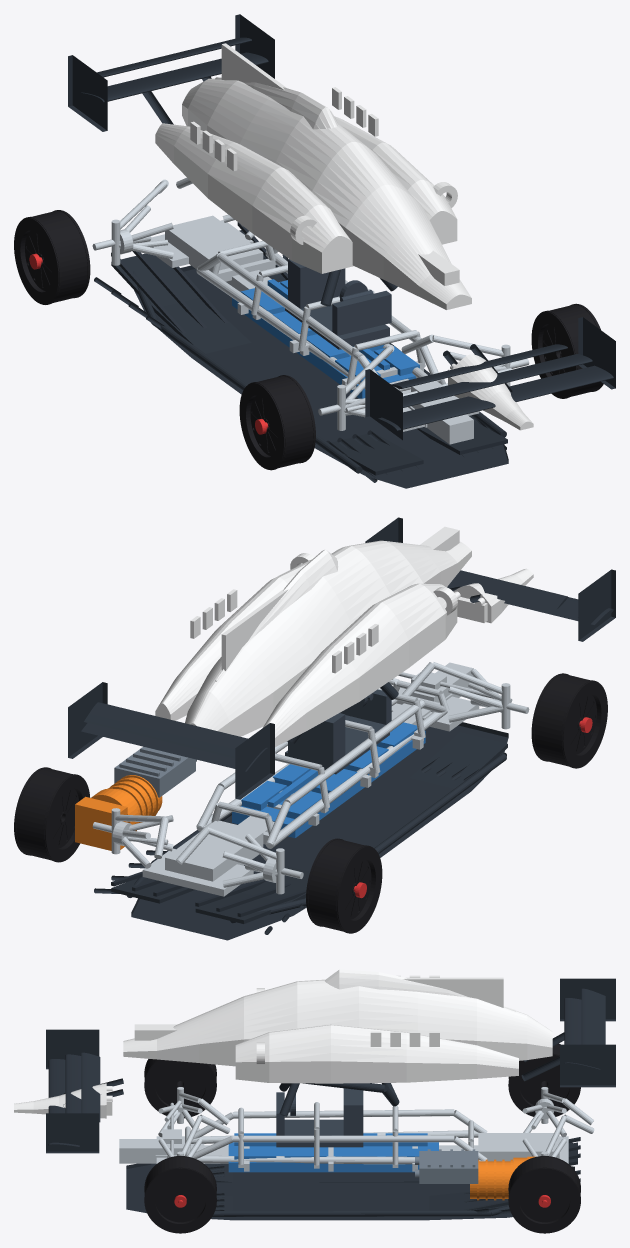
The model's file is W11_V6_PRINTABLE_EXPLODED.glb.
The picture shows the model from 3 angles, top to bottom: view 1: azimuth 30°, elevation 25°; view 2: azimuth 150°, elevation 25°; view 3: azimuth 270°, elevation 25°; orthographic projection. The views are drawn at different scales.
Parts seen in each view (by area): view 1: Reinforced upper body, Twin Venturi floor and diffuser, Rolling wheel (×3), Structural EV chassis, Static multi-element front wing, Static rear wing, Cockpit insert, Low energy store, Rear static suspension, Front static suspension and steering rack, Removable nose and crash box; view 2: Reinforced upper body, Twin Venturi floor and diffuser, Rolling wheel (×3), Structural EV chassis, Static rear wing, Rear static suspension, Static multi-element front wing, Low energy store, Cockpit insert, Front static suspension and steering rack, Rear motor and gearbox, Inverter and controller (+1 smaller); view 3: Reinforced upper body, Rolling wheel (×4), Twin Venturi floor and diffuser, Structural EV chassis, Static multi-element front wing, Static rear wing, Low energy store, Cockpit insert, Front static suspension and steering rack, Rear static suspension, Inverter and controller, Rear motor and gearbox (+2 smaller).
Boxes of the visible parts, x1=… form: Reinforced upper body: x1=155, y1=43, x2=471, y2=309; Twin Venturi floor and diffuser: x1=94, y1=222, x2=508, y2=488; Rolling wheel (×3): x1=14, y1=210, x2=603, y2=470; Structural EV chassis: x1=165, y1=215, x2=473, y2=444; Static multi-element front wing: x1=365, y1=317, x2=615, y2=441; Static rear wing: x1=68, y1=14, x2=274, y2=131; Cockpit insert: x1=285, y1=259, x2=391, y2=349; Low energy store: x1=232, y1=279, x2=419, y2=398; Rear static suspension: x1=111, y1=177, x2=254, y2=267; Front static suspension and steering rack: x1=337, y1=334, x2=511, y2=431; Removable nose and crash box: x1=448, y1=354, x2=533, y2=430; Reinforced upper body: x1=155, y1=526, x2=471, y2=747; Twin Venturi floor and diffuser: x1=94, y1=722, x2=508, y2=940; Rolling wheel (×3): x1=14, y1=673, x2=607, y2=933; Structural EV chassis: x1=165, y1=662, x2=473, y2=881; Static rear wing: x1=68, y1=682, x2=274, y2=799; Rear static suspension: x1=111, y1=808, x2=284, y2=896; Static multi-element front wing: x1=365, y1=517, x2=615, y2=641; Low energy store: x1=232, y1=722, x2=425, y2=837; Cockpit insert: x1=285, y1=689, x2=391, y2=774; Front static suspension and steering rack: x1=380, y1=662, x2=512, y2=731; Rear motor and gearbox: x1=75, y1=775, x2=162, y2=850; Inverter and controller: x1=114, y1=746, x2=196, y2=797; Reinforced upper body: x1=123, y1=969, x2=552, y2=1083; Rolling wheel (×4): x1=144, y1=1043, x2=580, y2=1233; Twin Venturi floor and diffuser: x1=126, y1=1137, x2=580, y2=1220; Structural EV chassis: x1=119, y1=1102, x2=559, y2=1171; Static multi-element front wing: x1=46, y1=1029, x2=123, y2=1153; Static rear wing: x1=521, y1=978, x2=615, y2=1087; Low energy store: x1=228, y1=1133, x2=438, y2=1172; Cockpit insert: x1=276, y1=1088, x2=363, y2=1147; Front static suspension and steering rack: x1=156, y1=1087, x2=230, y2=1163; Rear static suspension: x1=522, y1=1087, x2=594, y2=1163; Inverter and controller: x1=415, y1=1149, x2=478, y2=1183; Rear motor and gearbox: x1=470, y1=1156, x2=535, y2=1200.
Size of the model in its own units: 0.1108 by 0.0886 by 0.2146.
